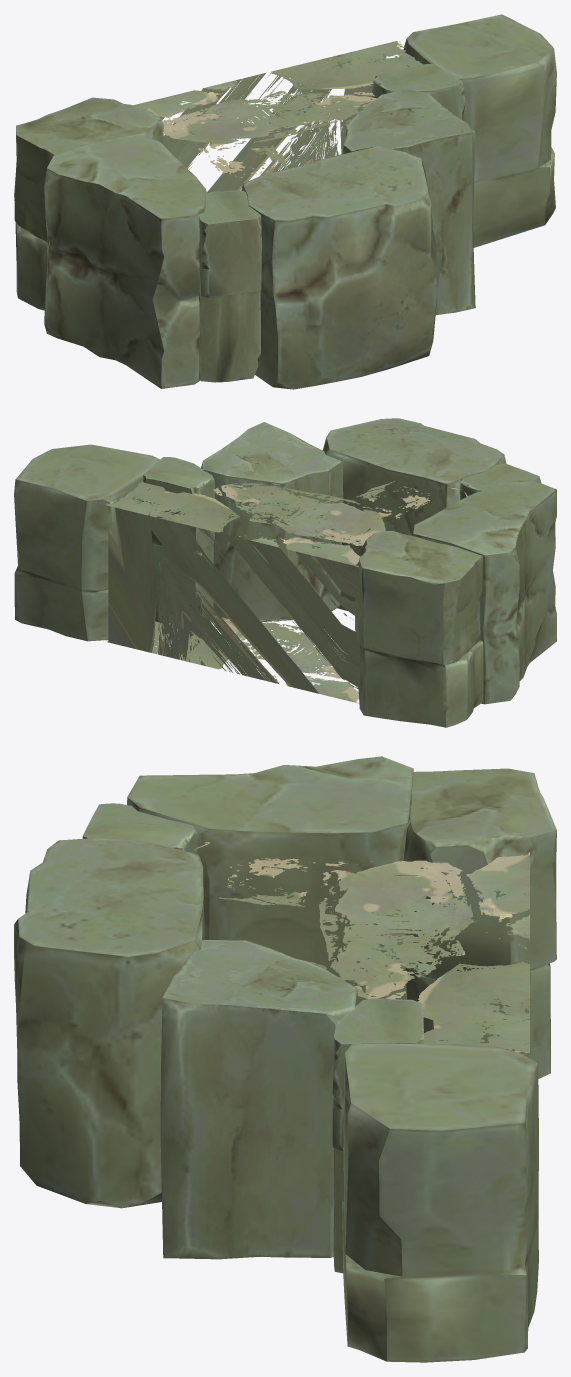
File: Ruins_Wall_DMG_Top_8m_A.fbx
3 views of the same model, one above another, from view 1: azimuth 30°, elevation 25°; view 2: azimuth 150°, elevation 25°; view 3: azimuth 270°, elevation 25° (orthographic). The views are drawn at different scales.
Visible parts, largest first — view 1: Ruins_Wall_DMG_Top_8m_A; view 2: Ruins_Wall_DMG_Top_8m_A; view 3: Ruins_Wall_DMG_Top_8m_A.
Part boxes in pixels (bbox=[...]): Ruins_Wall_DMG_Top_8m_A: bbox=[14, 14, 556, 389]; Ruins_Wall_DMG_Top_8m_A: bbox=[14, 418, 556, 727]; Ruins_Wall_DMG_Top_8m_A: bbox=[14, 756, 556, 1362].
Size of the model in its own units: 892 by 290 by 552.
